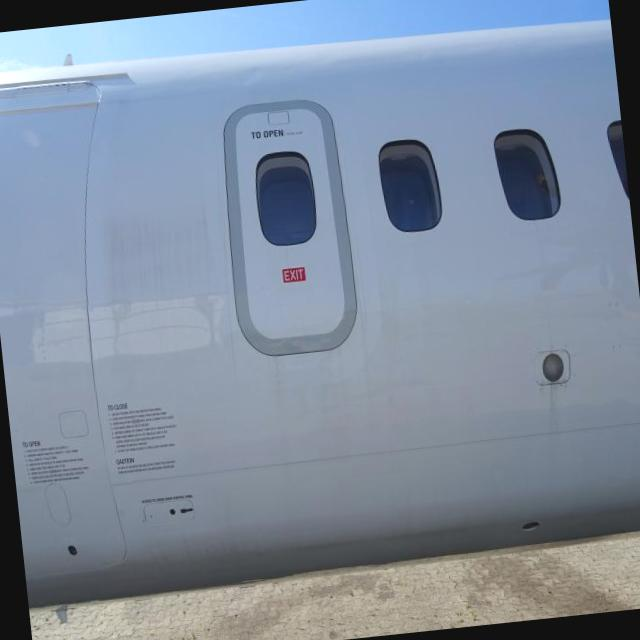dent: (234, 56, 266, 90)
